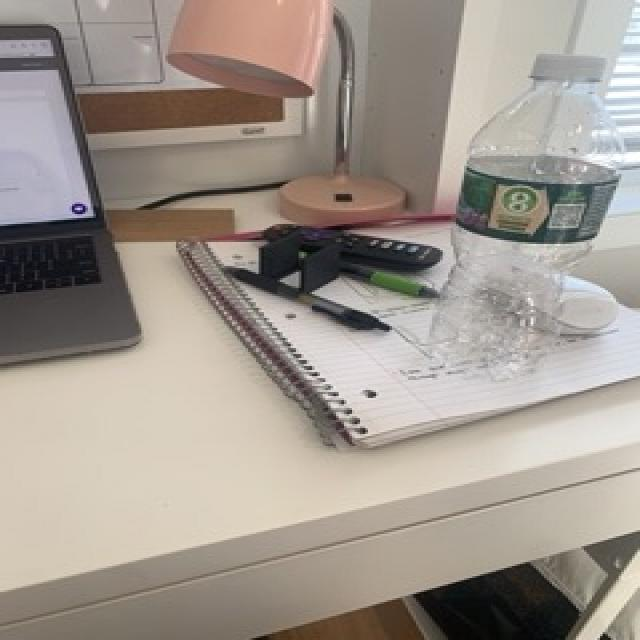water_bottle: (419, 47, 630, 380)
